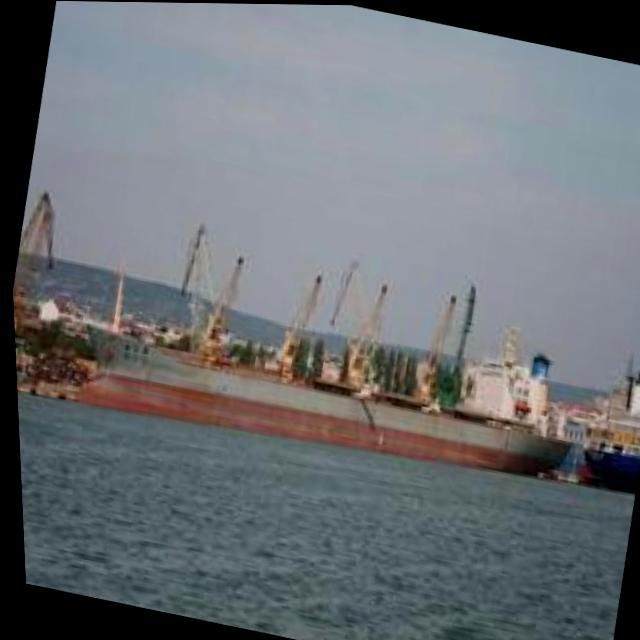ship2: (72, 224, 572, 475)
